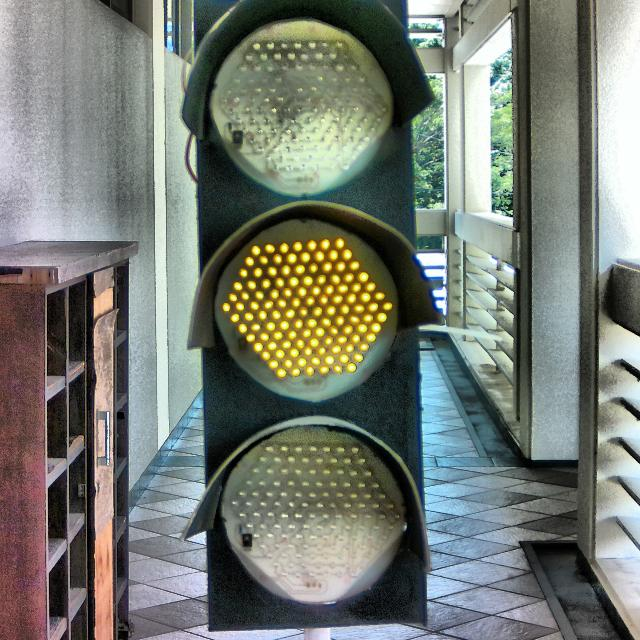yellow: (185, 0, 431, 635)
